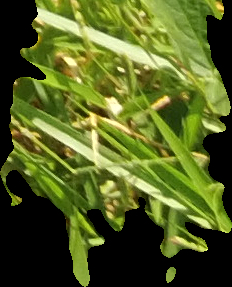grass: (1, 1, 231, 285)
